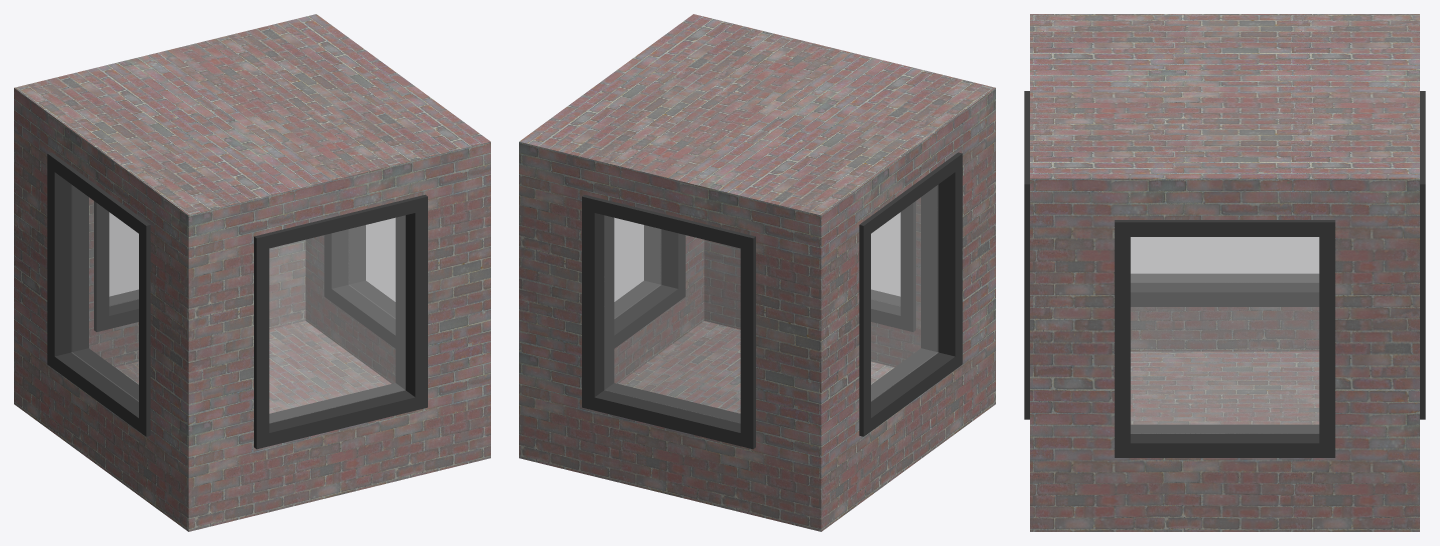
Rendered from building1.glb.
3 views of the same model, side by side, from view 1: azimuth 30°, elevation 25°; view 2: azimuth 150°, elevation 25°; view 3: azimuth 270°, elevation 25° (orthographic). The views are drawn at different scales.
Parts seen in each view (by area): view 1: Block, Windowglass.003, Windowframe.003, Windowframe.002, Windowglass.002, Windowframe, Windowglass, Windowframe.001, Windowglass.001; view 2: Block, Windowglass.001, Windowframe.001, Windowframe.002, Windowglass.002, Windowframe, Windowglass, Windowframe.003, Windowglass.003; view 3: Block, Windowglass, Windowframe, Windowglass.002, Windowframe.002, Windowframe.001, Windowframe.003.
Boxes of the visible parts, x1,y1,x2,y2 form: Block: (14,14,490,531); Windowglass.003: (269,215,405,422); Windowframe.003: (254,194,427,449); Windowframe.002: (47,152,150,436); Windowglass.002: (71,185,138,401); Windowframe: (324,225,395,348); Windowglass: (349,218,395,318); Windowframe.001: (94,201,138,331); Windowglass.001: (109,213,138,305); Block: (519,14,995,531); Windowglass.001: (604,215,740,422); Windowframe.001: (582,194,755,449); Windowframe.002: (859,152,962,436); Windowglass.002: (871,185,938,401); Windowframe: (614,225,685,348); Windowglass: (614,218,660,318); Windowframe.003: (871,201,915,331); Windowglass.003: (871,213,900,305); Block: (1030,14,1419,531); Windowglass: (1131,237,1318,433); Windowframe: (1114,220,1335,457); Windowglass.002: (1131,237,1318,282); Windowframe.002: (1130,274,1319,306); Windowframe.001: (1420,91,1425,419); Windowframe.003: (1024,91,1029,419).
Bounding box in the file's own units: 6.18 × 6 × 6.18.
Materials: 9 (1 with a texture image).
